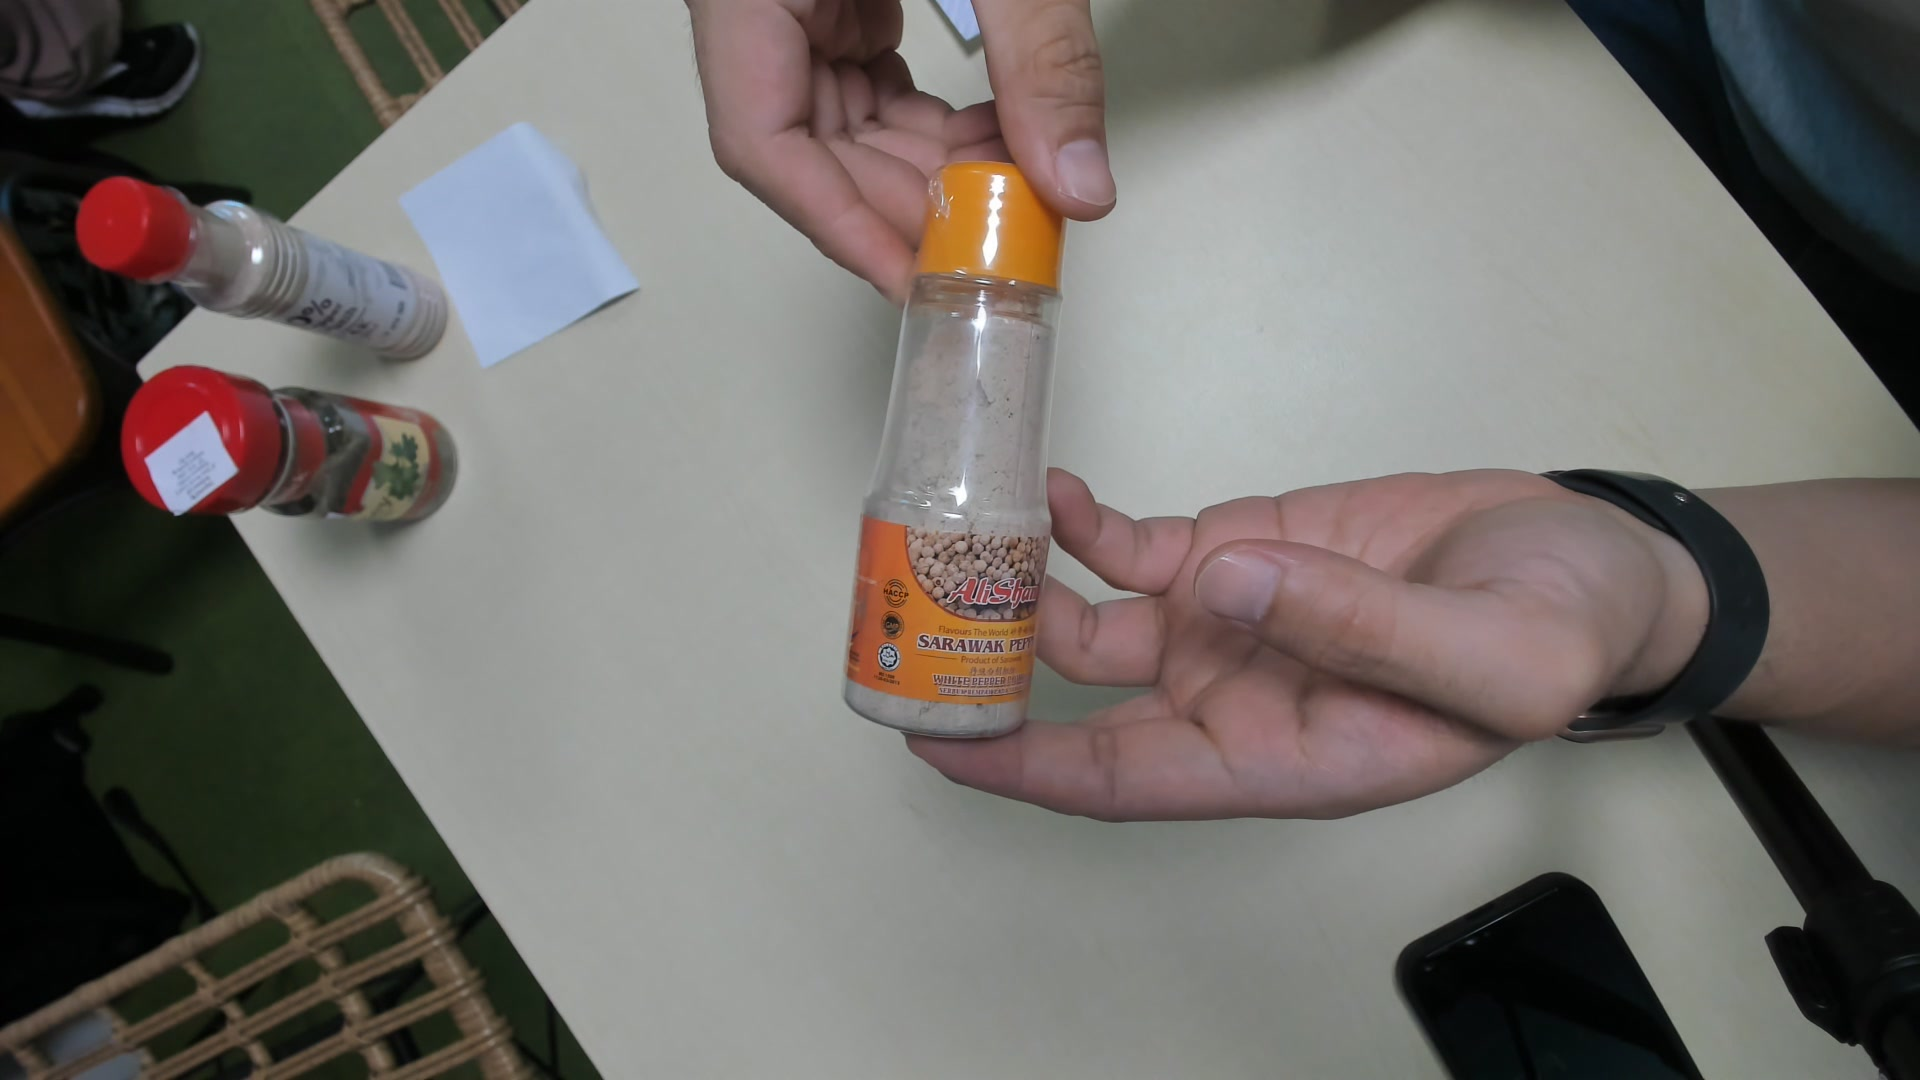HerbsSpicesPepper_400-499g_Halal_NonHealthy: (847, 158, 1036, 737)
